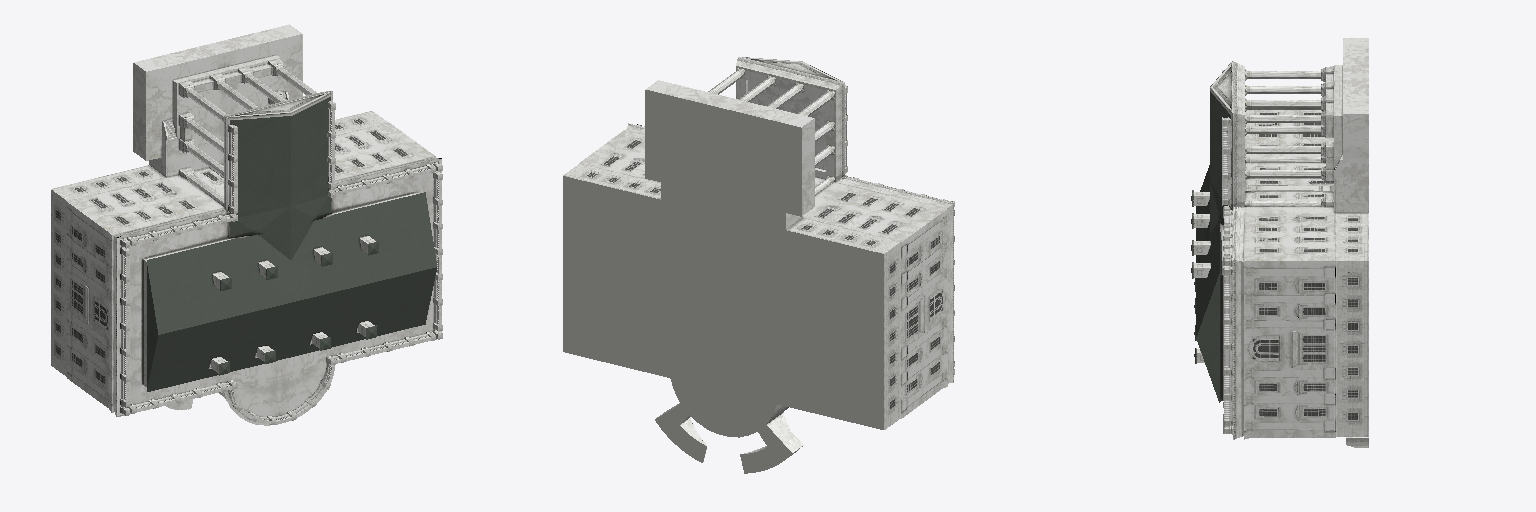
3 views of the same model, side by side, from view 1: azimuth 30°, elevation 25°; view 2: azimuth 150°, elevation 25°; view 3: azimuth 270°, elevation 25° (orthographic).
Visible parts, largest first — view 1: 10090_white_house; view 2: 10090_white_house; view 3: 10090_white_house.
Part boxes in pixels (x1,y1,x2,y2): 10090_white_house: (51, 24, 442, 425); 10090_white_house: (563, 57, 954, 473); 10090_white_house: (1191, 38, 1368, 447).
Bounding box in the file's own units: 5518 × 5824 × 2607.
1 materials, 1 textured.